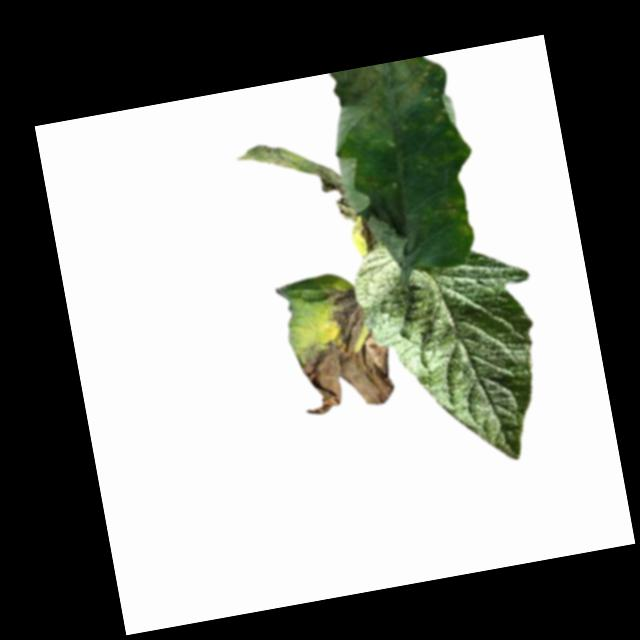Late_blight: (284, 276, 402, 419), (330, 53, 451, 150), (311, 152, 383, 262), (234, 138, 301, 179)
healthy: (346, 224, 561, 481)
